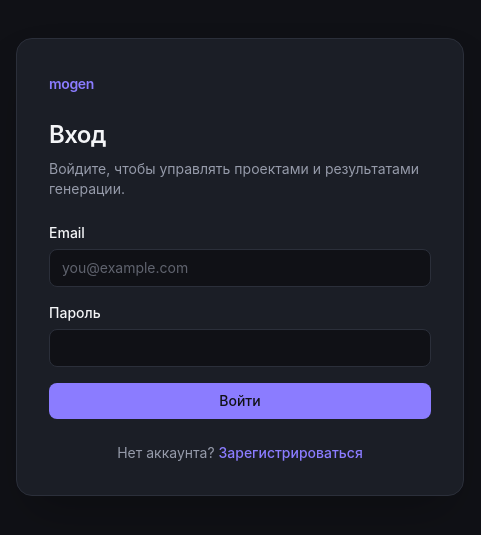
Scenario: LoginPage › shows client-side validation messages
Click the button "Войти" at point(240, 401), box [49,383,431,419]
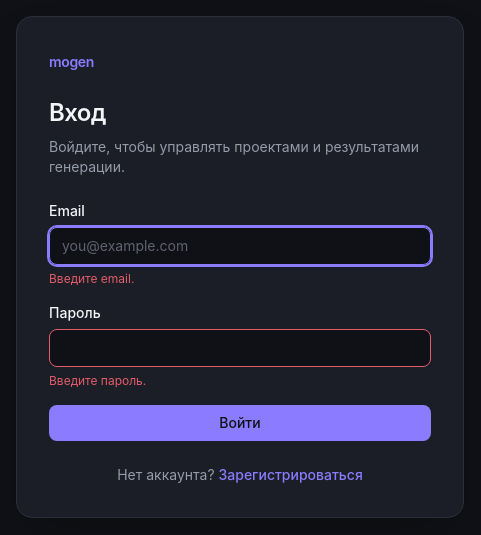
Result: the text "Введите email." is shown at [49,271,134,286]
Result: the text "Введите пароль." is shown at [49,373,146,388]
